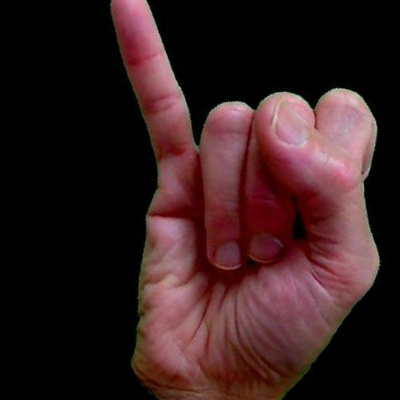j: (3, 3, 400, 393)
